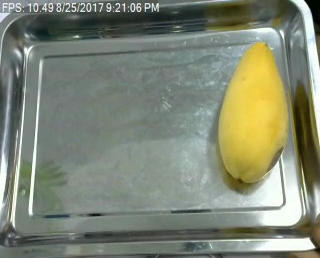Mango: (214, 44, 291, 185)
